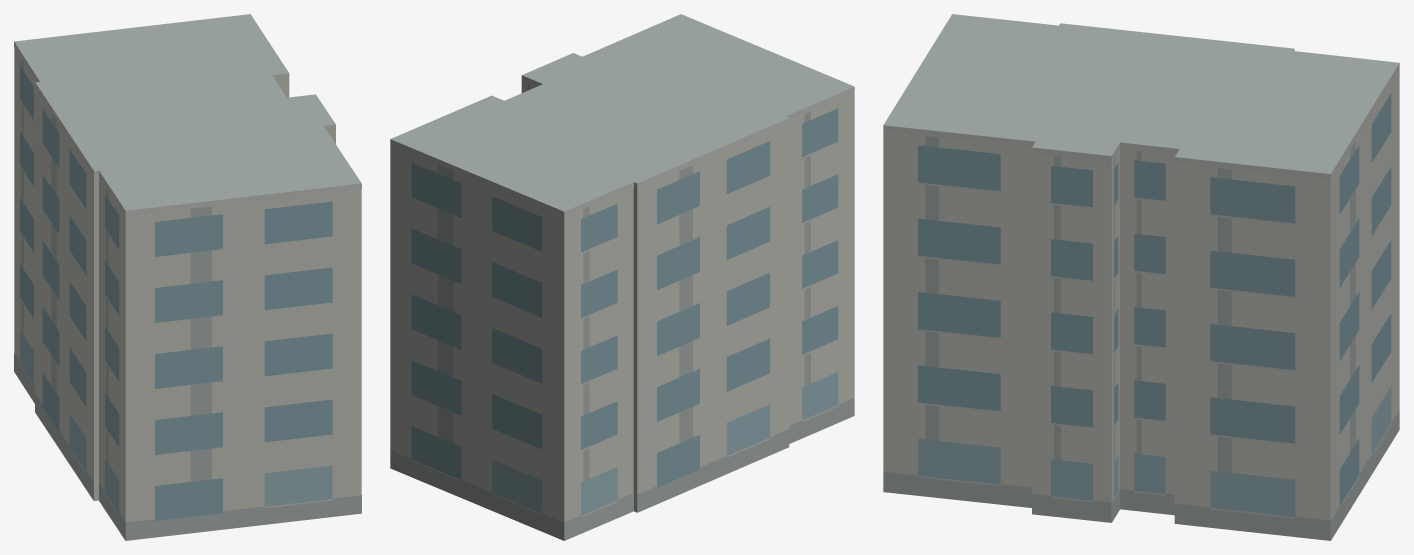
The model's file is survey-upis-32614274.glb.
3 renders of one model, left to right at view 1: azimuth 30°, elevation 25°; view 2: azimuth 150°, elevation 25°; view 3: azimuth 270°, elevation 25°, orthographic. The views are drawn at different scales.
Parts seen in each view (by area): view 1: survey-upis-32614274.tmp; view 2: survey-upis-32614274.tmp; view 3: survey-upis-32614274.tmp.
Boxes of the visible parts, x1,y1,x2,y2 form: survey-upis-32614274.tmp: (14, 14, 361, 540); survey-upis-32614274.tmp: (390, 14, 854, 540); survey-upis-32614274.tmp: (883, 14, 1399, 540).
Size of the model in its own units: 13.49 by 14.4 by 18.38.
